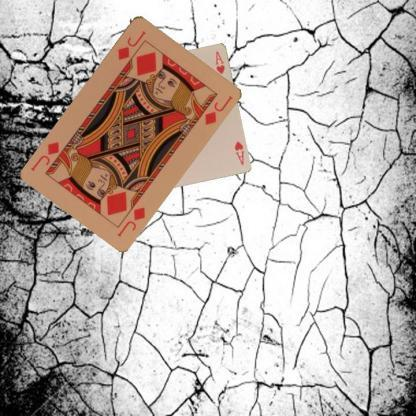Ah: (232, 138, 246, 166)
Jd: (114, 203, 147, 237), (114, 28, 148, 60)
